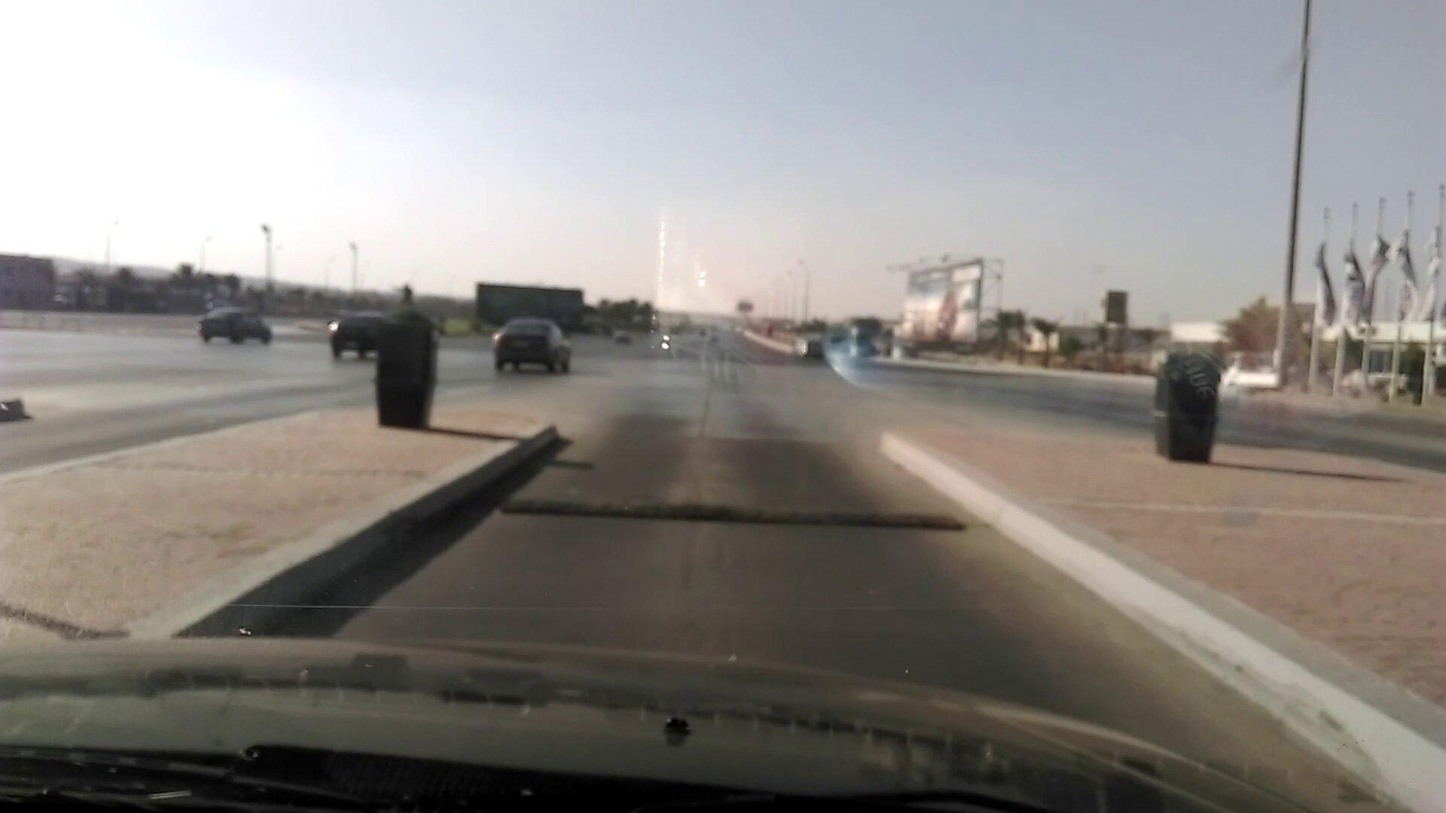Bump: (490, 476, 1004, 550)
